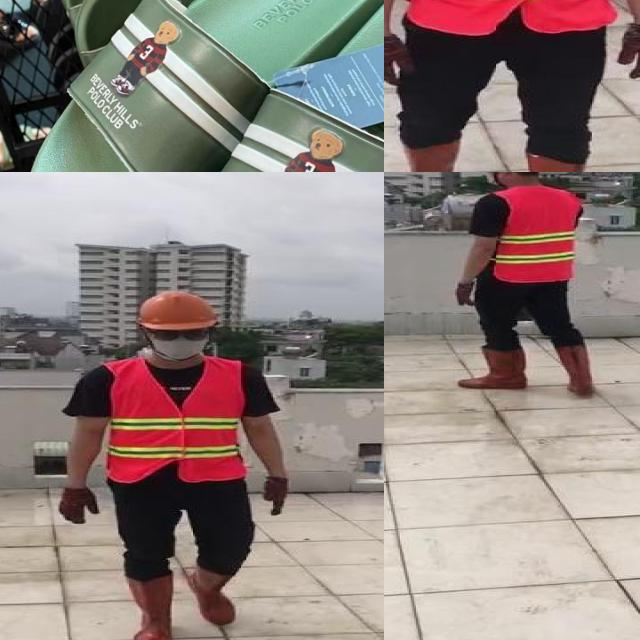Sandals: (0, 0, 384, 172)
boots: (123, 575, 175, 640), (188, 564, 241, 625), (461, 348, 532, 388), (387, 142, 464, 172), (521, 148, 610, 172), (553, 345, 595, 394)
face_mask: (148, 322, 212, 363)
glasses: (148, 326, 212, 344)
hand_glove: (56, 487, 99, 525), (384, 36, 417, 85), (620, 24, 640, 80), (262, 477, 288, 517), (455, 281, 475, 305)
head_helmet: (132, 290, 220, 330)
person: (55, 288, 295, 640), (384, 0, 640, 172), (444, 172, 615, 402)
vest: (104, 359, 248, 485), (489, 188, 578, 284)
